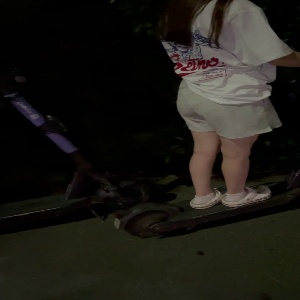human on a scooter: (107, 1, 300, 245)
